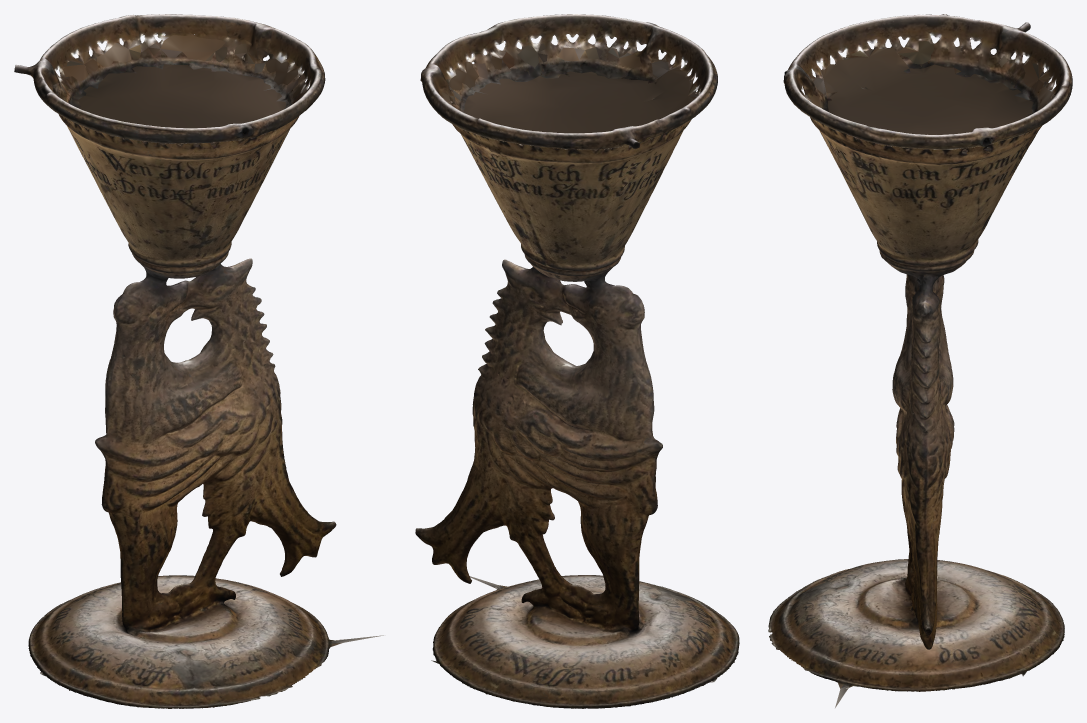
File: preview.glb
3 renders of one model, left to right at view 1: azimuth 30°, elevation 25°; view 2: azimuth 150°, elevation 25°; view 3: azimuth 270°, elevation 25°, orthographic. The views are drawn at different scales.
Visible parts, largest first — view 1: Object_2; view 2: Object_2; view 3: Object_2.
Boxes of the visible parts, bbox=[...] form: Object_2: bbox=[14, 14, 383, 708]; Object_2: bbox=[415, 14, 739, 708]; Object_2: bbox=[768, 14, 1072, 707].
Bounding box in the file's own units: 18.72 × 34.04 × 16.75.
Materials: 1 (1 with a texture image).
